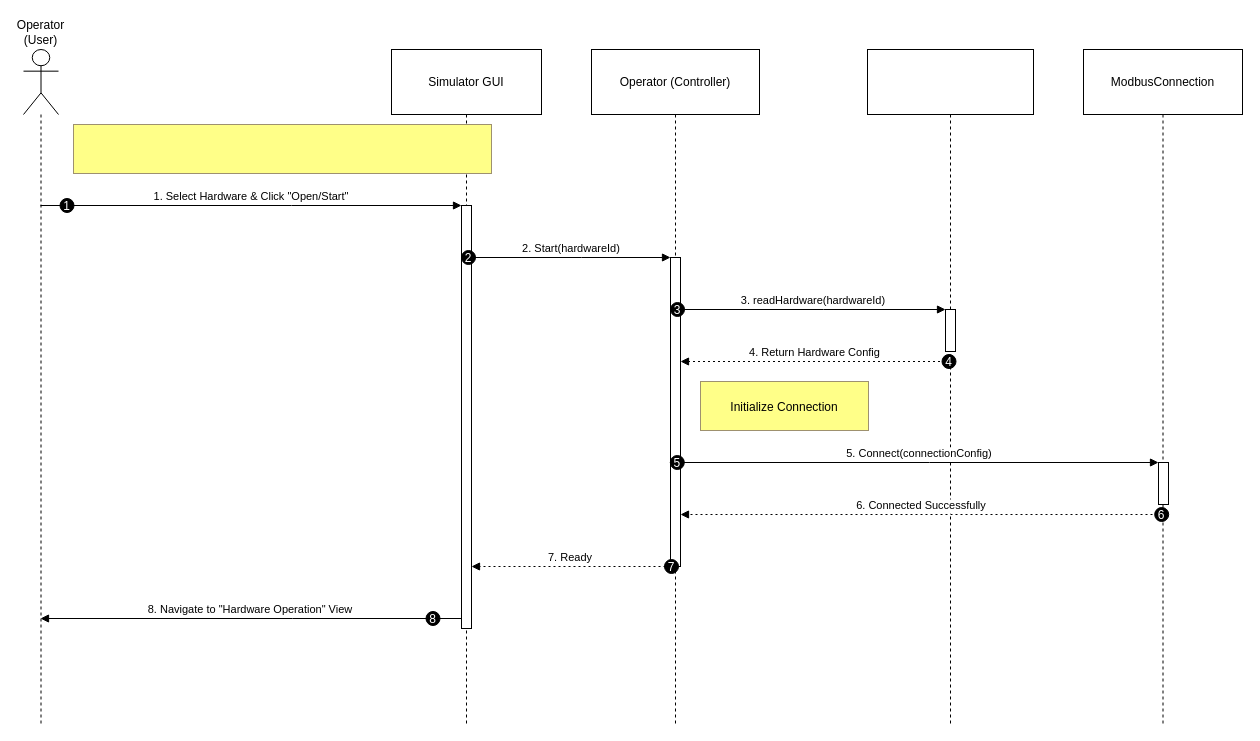
Image size: 1260x741. Some labels were removed from this diagram. Each missing label, with the box of its shape:
OperatorAccess (DB): (866, 48, 1034, 724)
User selects hardware to start simulation: (72, 124, 492, 174)
